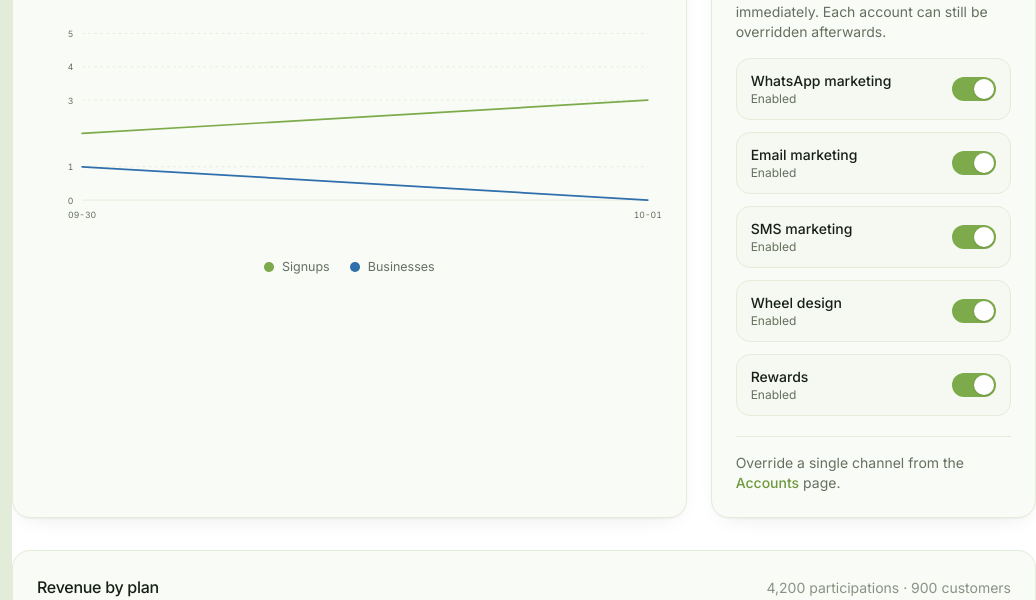
platform dashboard page › renders and toggles the rewards platform master switch
(page scrolled)
Click the switch named "Rewards" at coordinates (974, 385), box [952, 373, 996, 397]
(page scrolled)
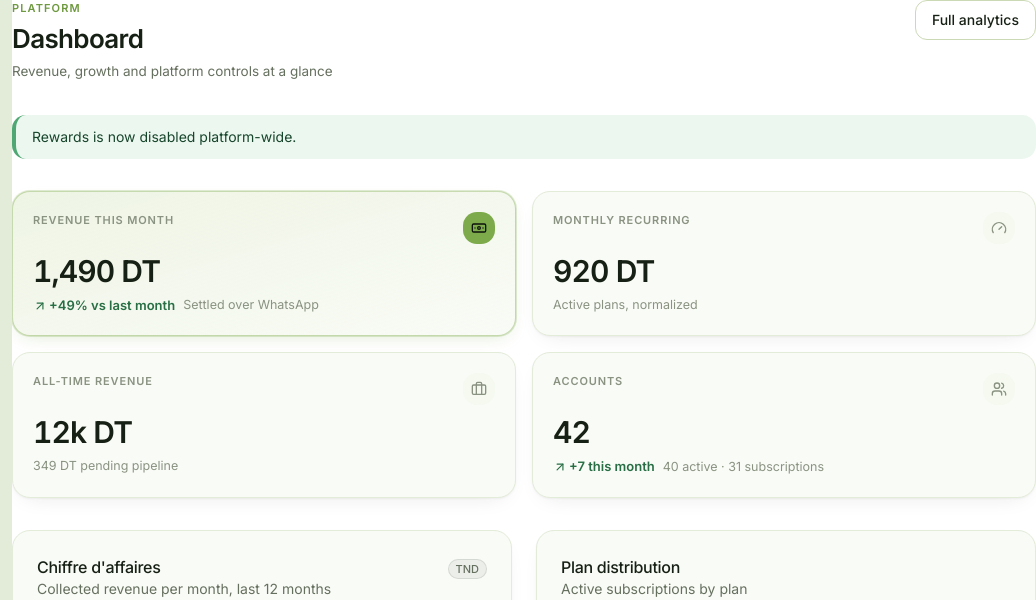
Check: the message reads "Rewards is now disabled platform-wide.", box [32, 128, 296, 145]
